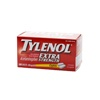grozi_72: (16, 32, 82, 72)
